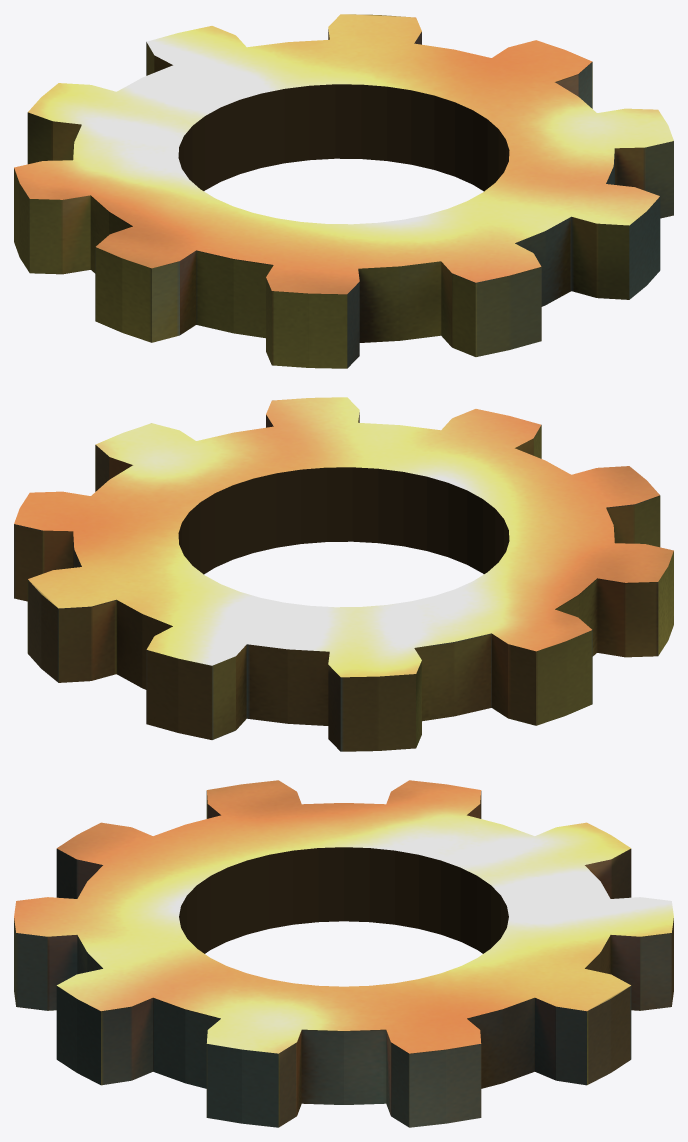
The model's file is ButtonSetting.fbx.
3 renders of one model, top to bottom at view 1: azimuth 30°, elevation 25°; view 2: azimuth 150°, elevation 25°; view 3: azimuth 270°, elevation 25°, orthographic.
Parts seen in each view (by area): view 1: Gear; view 2: Gear; view 3: Gear.
Part boxes in pixels (box(x1,y1,x2,y2)): Gear: box(14, 14, 673, 368); Gear: box(14, 397, 673, 751); Gear: box(14, 780, 673, 1127).
Size of the model in its own units: 2.16 by 0.2726 by 2.2.
1 material, 1 textured.
